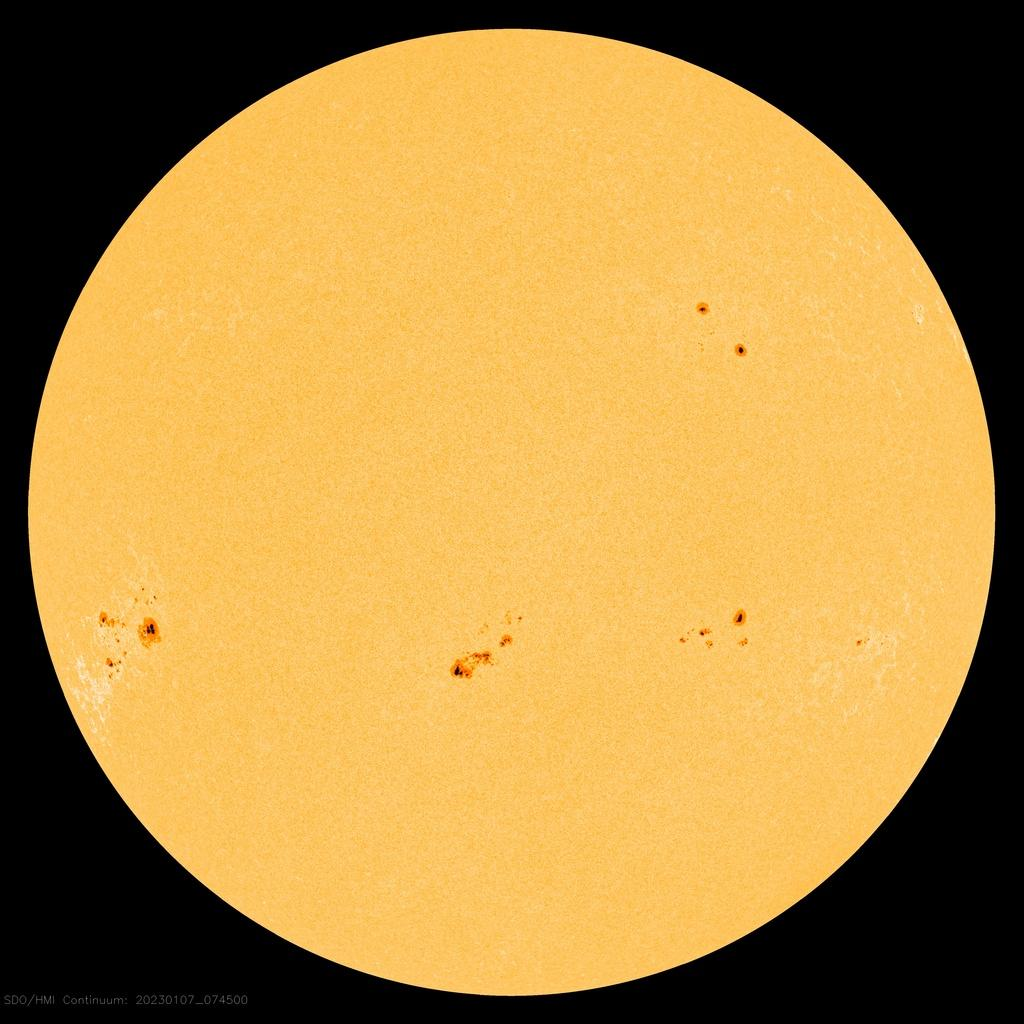flare: (88, 579, 176, 685), (441, 607, 532, 689), (665, 598, 759, 658), (687, 295, 719, 324), (728, 339, 753, 364), (851, 628, 869, 655)
